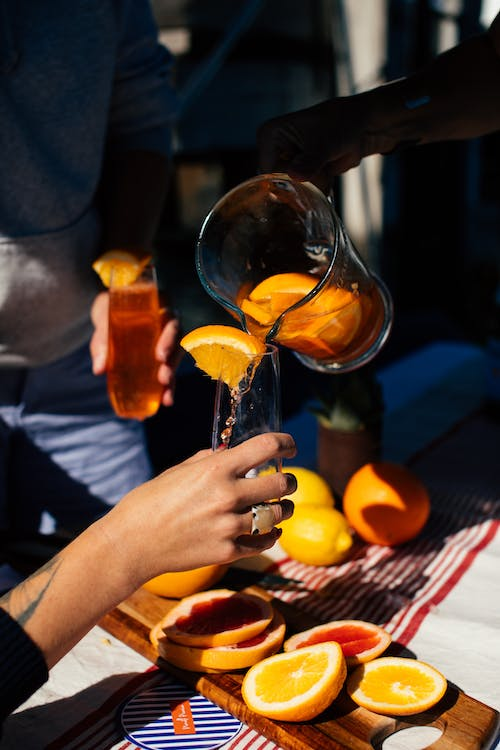alcohol: (191, 168, 397, 378), (210, 341, 284, 549), (105, 261, 166, 422)
